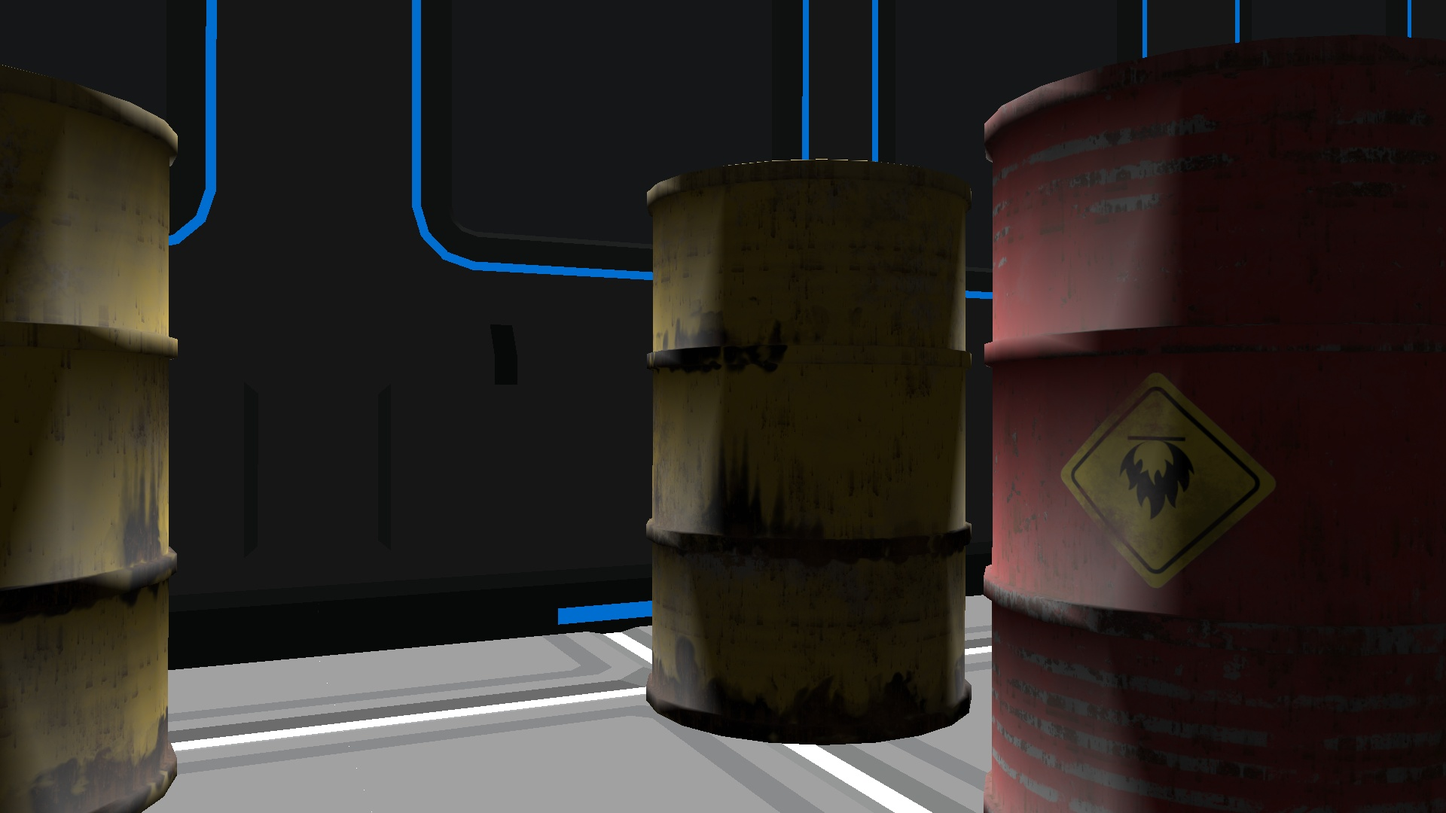toxic barrel: (983, 35, 1446, 813), (644, 159, 973, 747), (0, 64, 178, 813)
